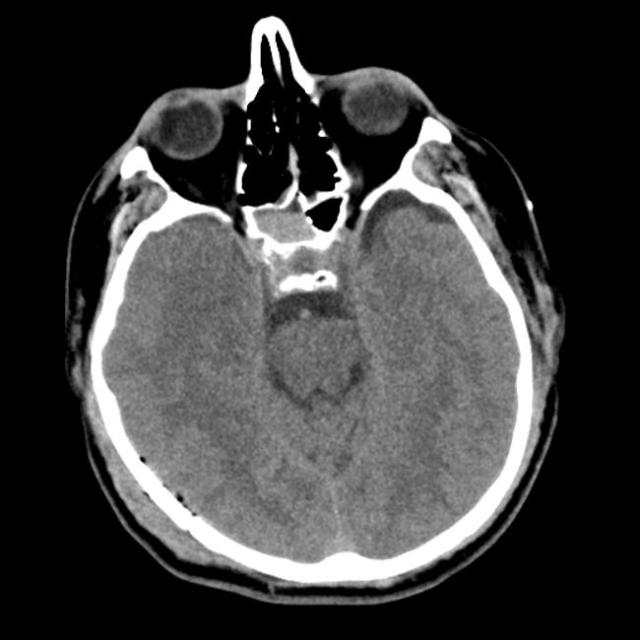lesion: (59, 14, 569, 606)
